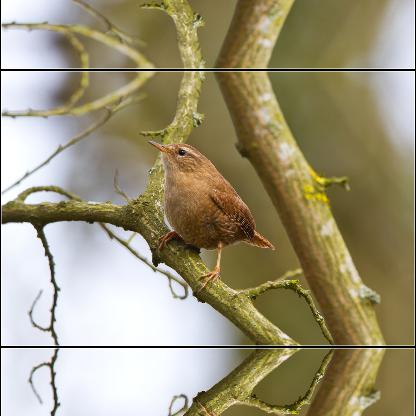Bird: (148, 138, 276, 294)
